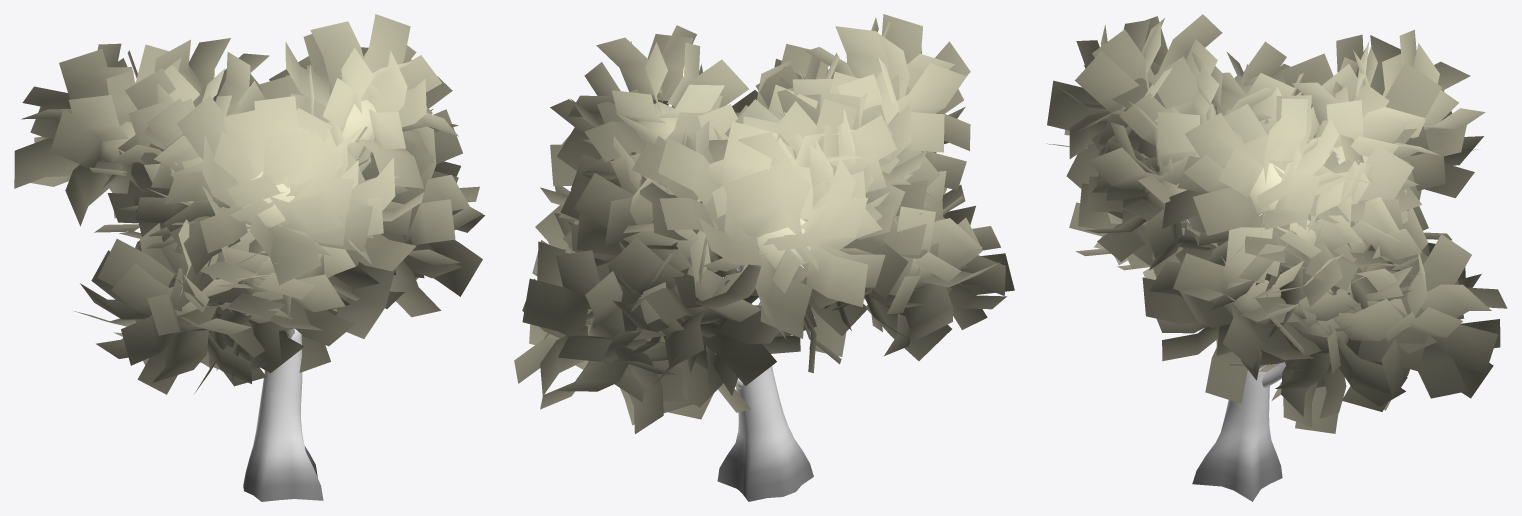
The model's file is SM_Tree_Oak.fbx.
The picture shows the model from 3 angles, left to right: view 1: azimuth 30°, elevation 25°; view 2: azimuth 150°, elevation 25°; view 3: azimuth 270°, elevation 25°; orthographic projection. The views are drawn at different scales.
Parts seen in each view (by area): view 1: SM_Tree_Oak_LOD0; view 2: SM_Tree_Oak_LOD0; view 3: SM_Tree_Oak_LOD0.
Part boxes in pixels (x1,y1,x2,y2): SM_Tree_Oak_LOD0: (14,14,484,501); SM_Tree_Oak_LOD0: (514,14,1014,501); SM_Tree_Oak_LOD0: (1046,14,1507,501).
Size of what is drawn, in the model's own units: 9.33 by 9.58 by 9.41.
